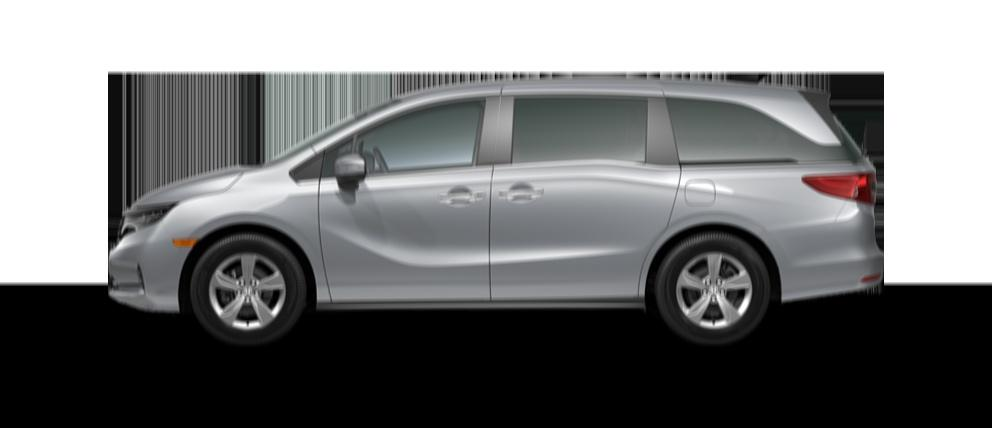Car hood: (117, 162, 247, 216)
Fender - -F-L-: (191, 148, 339, 304)
Fender - -R-L-: (632, 160, 808, 306)
Front bumper: (99, 230, 203, 324)
Headlight - -L-: (104, 190, 180, 252)
Passenger-s door - -F-L-: (320, 79, 500, 303)
Passenger-s door - -R-L-: (496, 82, 687, 300)
Rear bumper: (783, 202, 894, 307)
Rear light - -L-: (794, 164, 891, 215)
Side bumper - -L-: (316, 277, 655, 317)
Side mirror - -L-: (322, 143, 370, 203)
